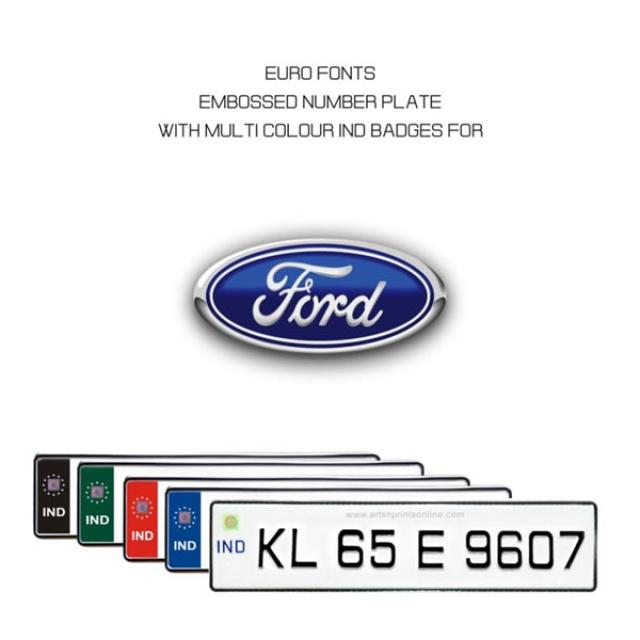license_plate: (212, 499, 597, 594)
